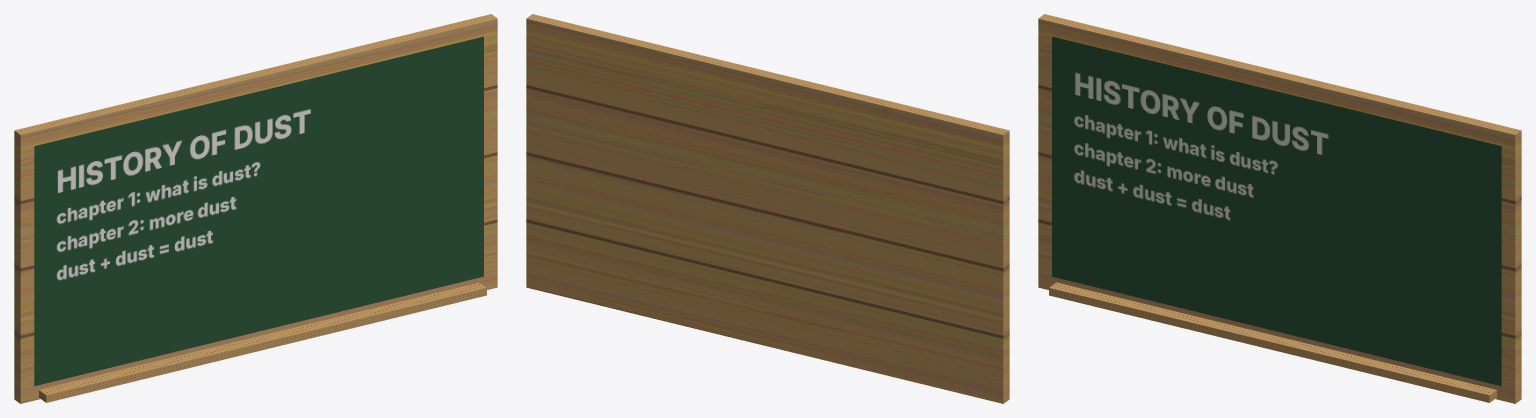
File: chalkboard.glb
3 renders of one model, left to right at view 1: azimuth 30°, elevation 25°; view 2: azimuth 150°, elevation 25°; view 3: azimuth 330°, elevation 25°, orthographic.
Parts seen in each view (by area): view 1: chalkboard; view 2: chalkboard; view 3: chalkboard.
Part boxes in pixels (x1,y1,x2,y2): chalkboard: (14,14,497,403); chalkboard: (526,14,1009,403); chalkboard: (1038,14,1521,403).
Bounding box in the file's own units: 2.6 × 1.4 × 0.13.
2 materials, 2 textured.
